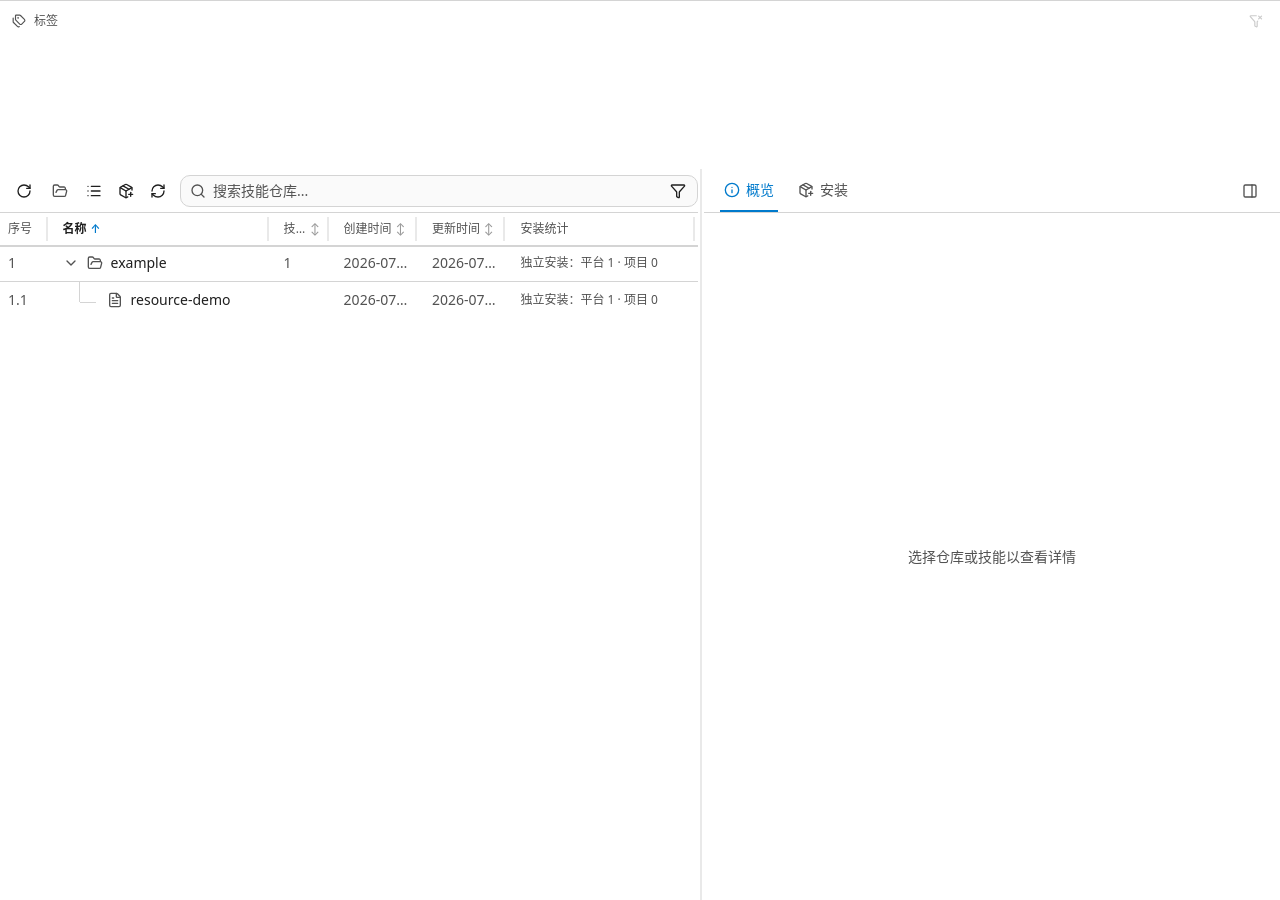
ResourceLibraryView delete › opens the unified add dialog from the add button
Press + in the element named "技能列表", box [0,169,698,318]
Click the button named "添加技能": (126, 190) [112,176,140,204]
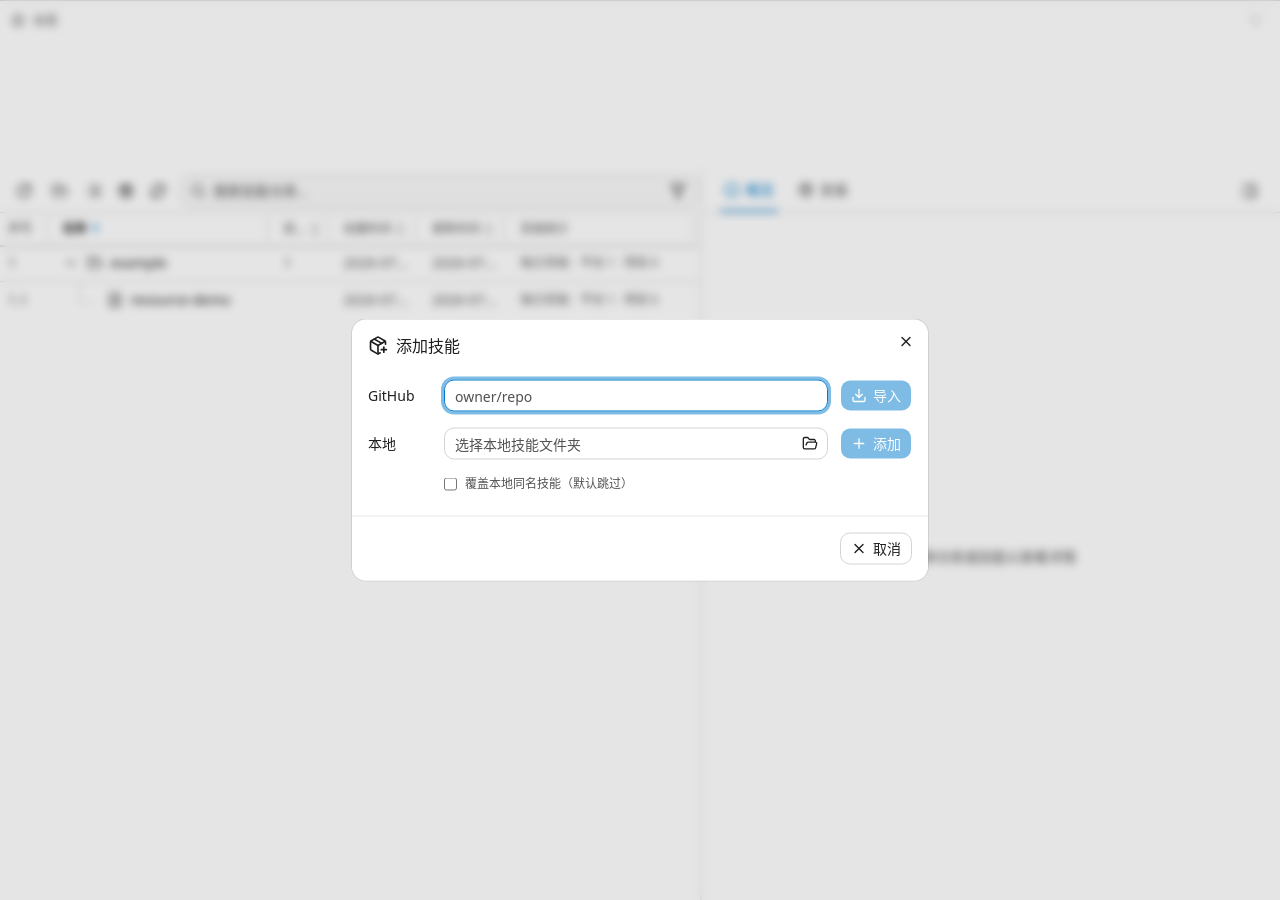
Expected: the dialog "添加技能 GitHub 导入 本地 添加 覆盖本地同名技能（默认跳过） 取消" is shown, [352,320,928,580]
Expected: the field labelled "GitHub" is shown, [444,380,828,412]
Expected: the field labelled "本地" is shown, [444,428,828,460]
